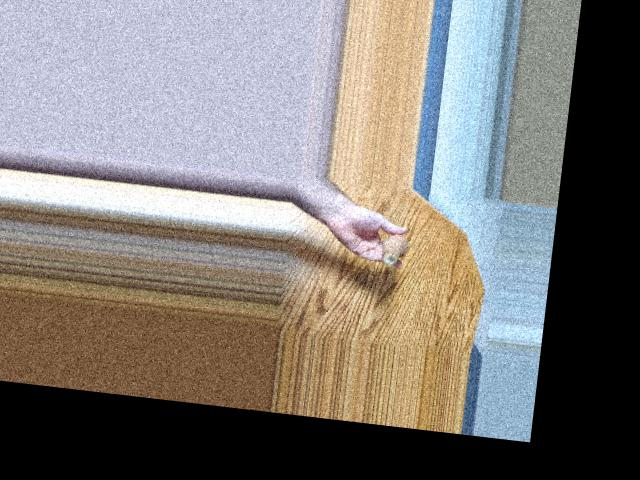sweet_potato: (381, 228, 420, 268)
